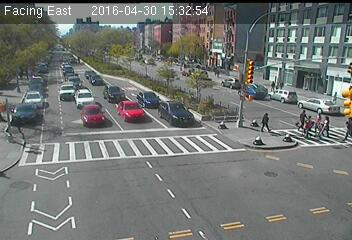neg: (309, 63, 333, 95), (9, 83, 22, 101)
pos: (256, 112, 272, 133)
